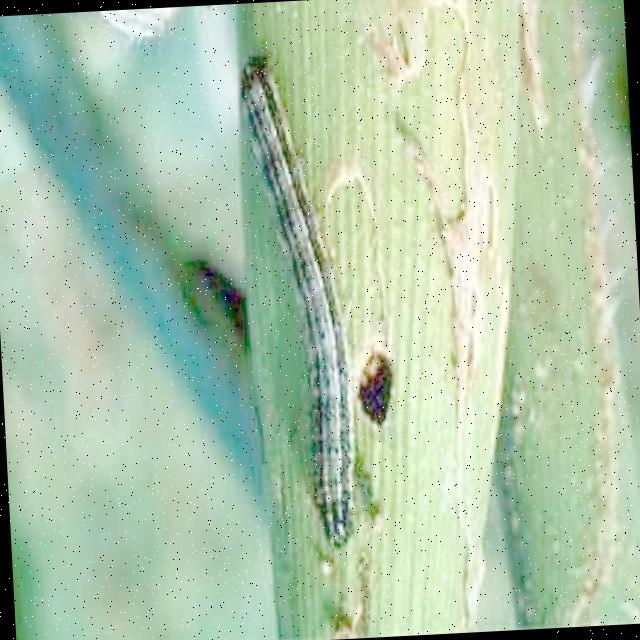worm: (236, 54, 361, 555)
